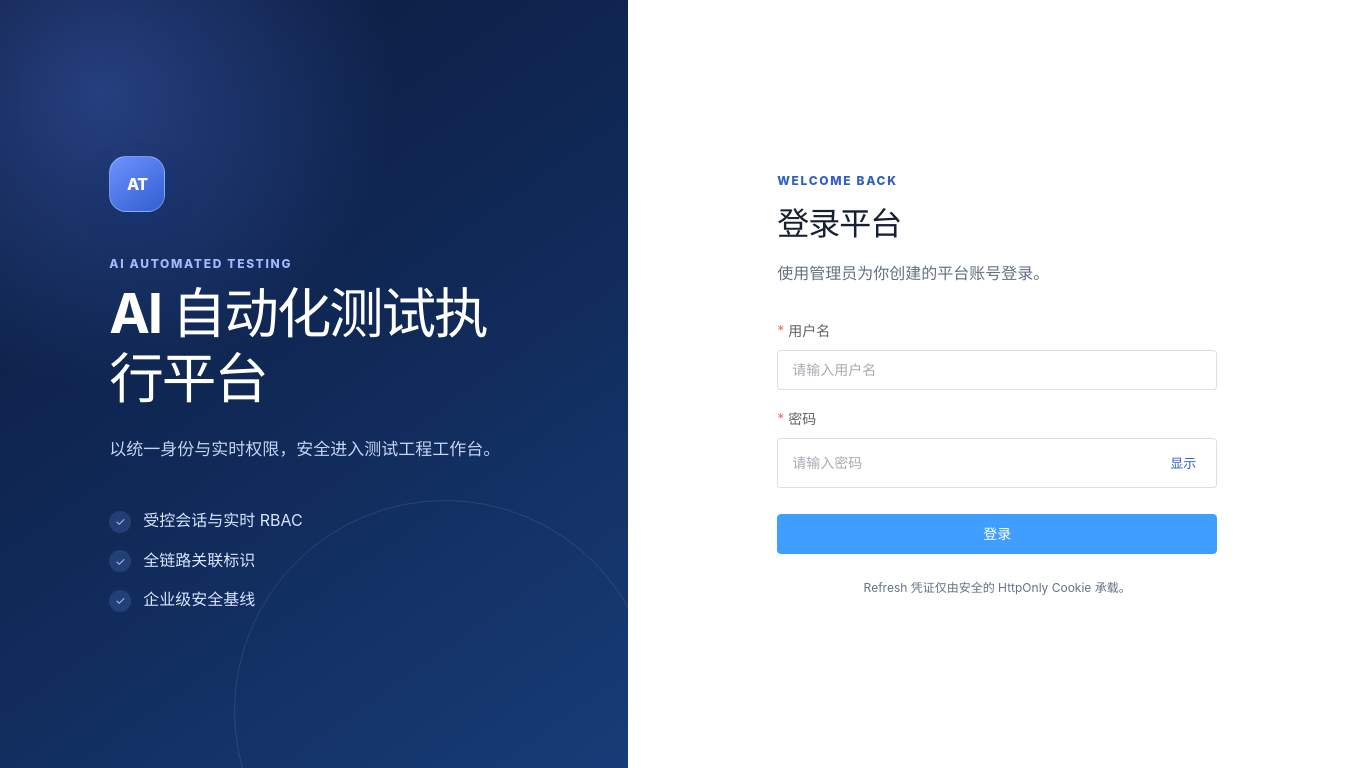
Test: 登录页（组件测试，API 为 mock） › keeps invalid-credential login errors enumeration-safe
Type "admin" into the field labelled "用户名" at (997, 370), box 792,351 -> 1202,389
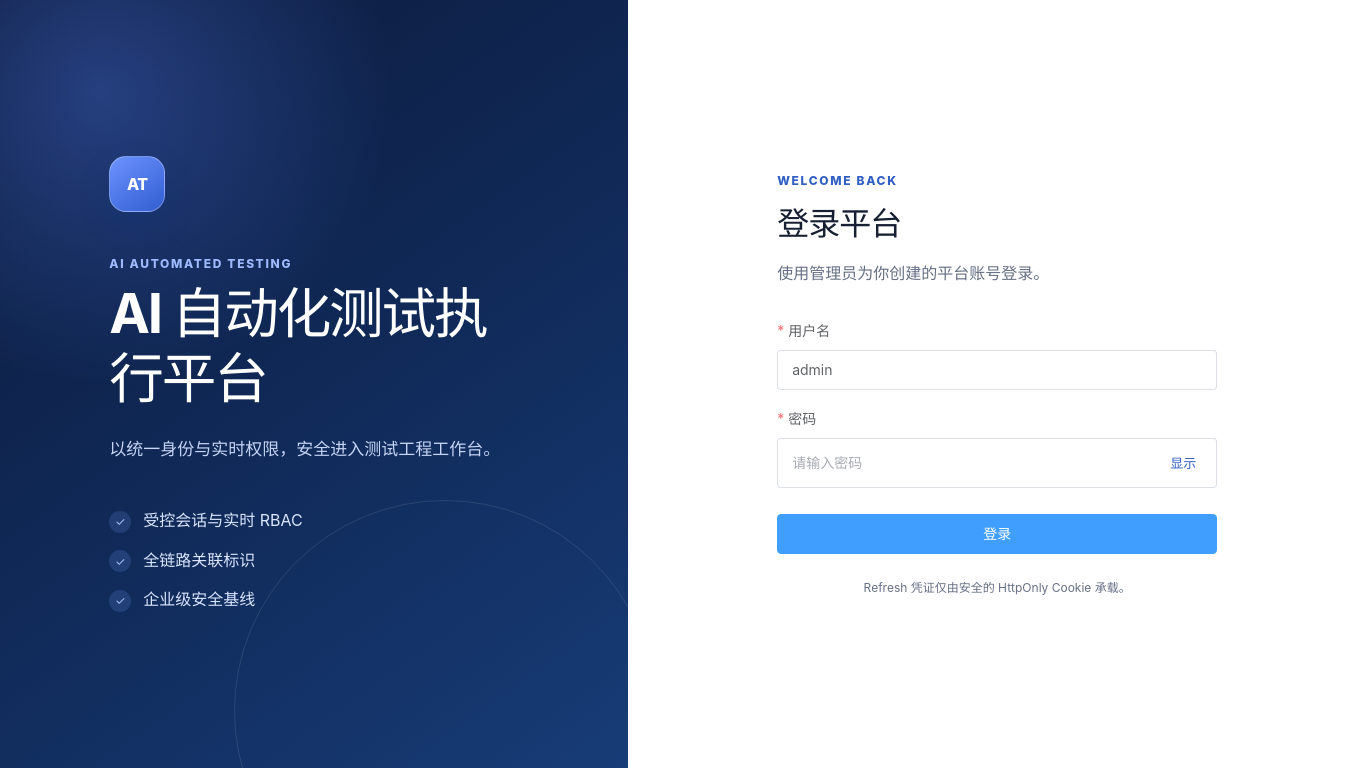
Type "input-only" into the password field labelled "密码" at (974, 463), box 792,444 -> 1156,482
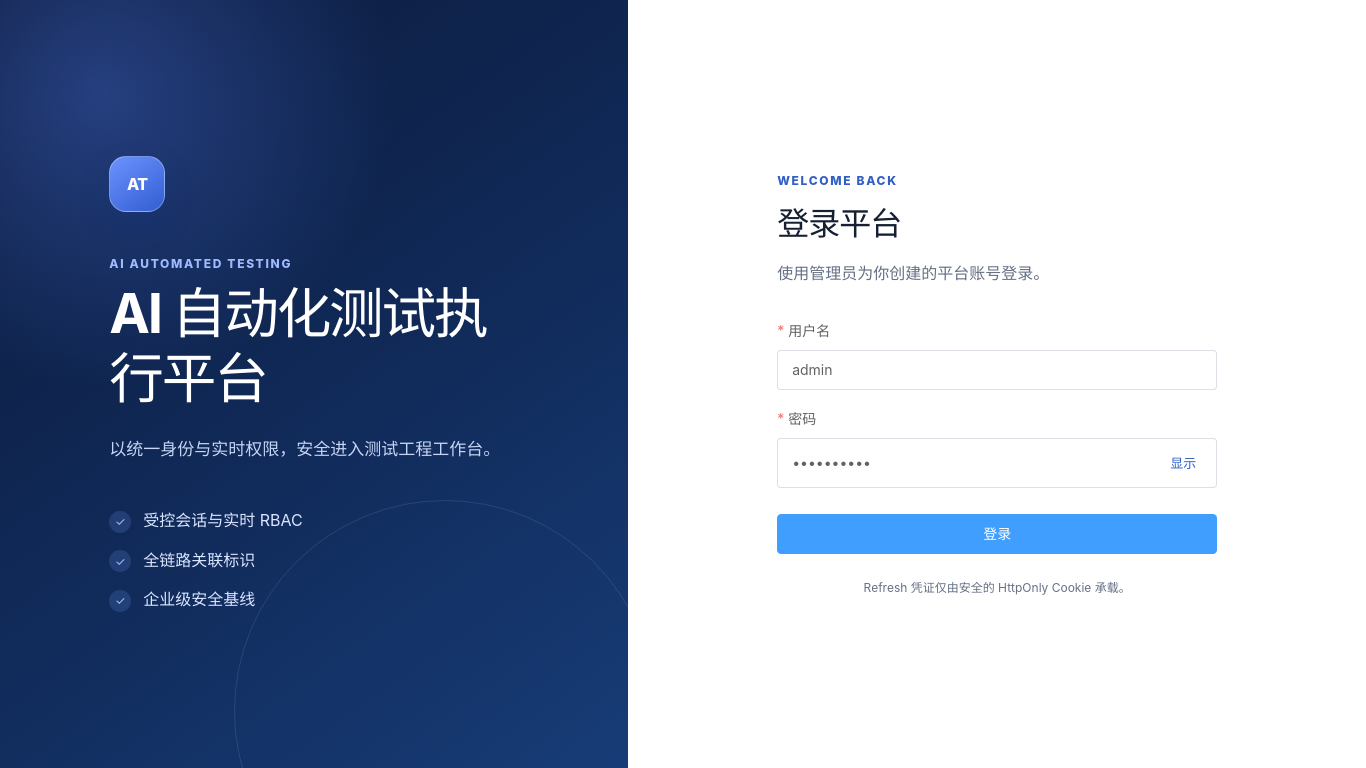
Click the button "登录" at (997, 534), box 777,514 -> 1217,554
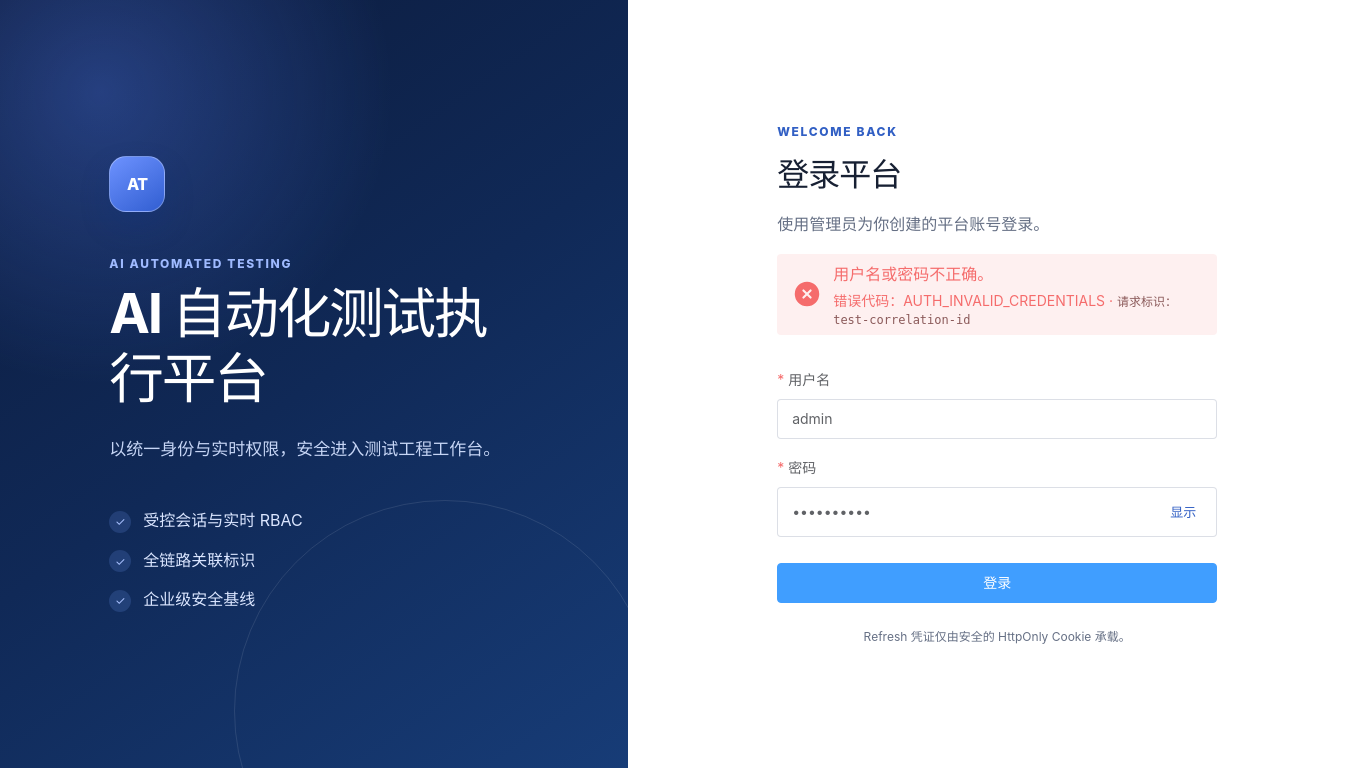
expect the text "用户名或密码不正确。" is shown: met, box 833,264 -> 993,284
